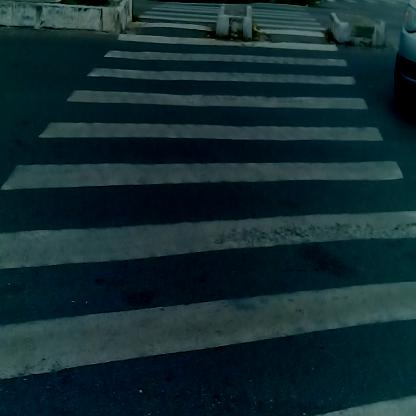crosswalk: (16, 28, 387, 416)
